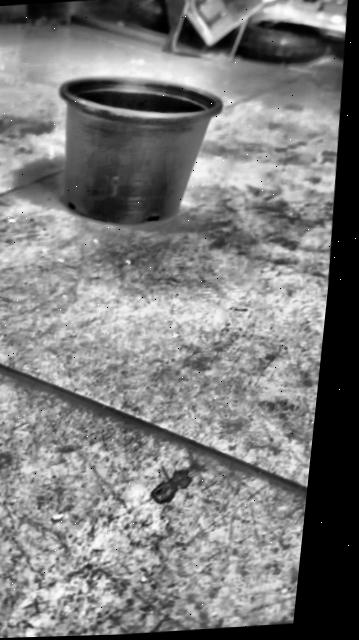pot: (43, 69, 228, 231)
